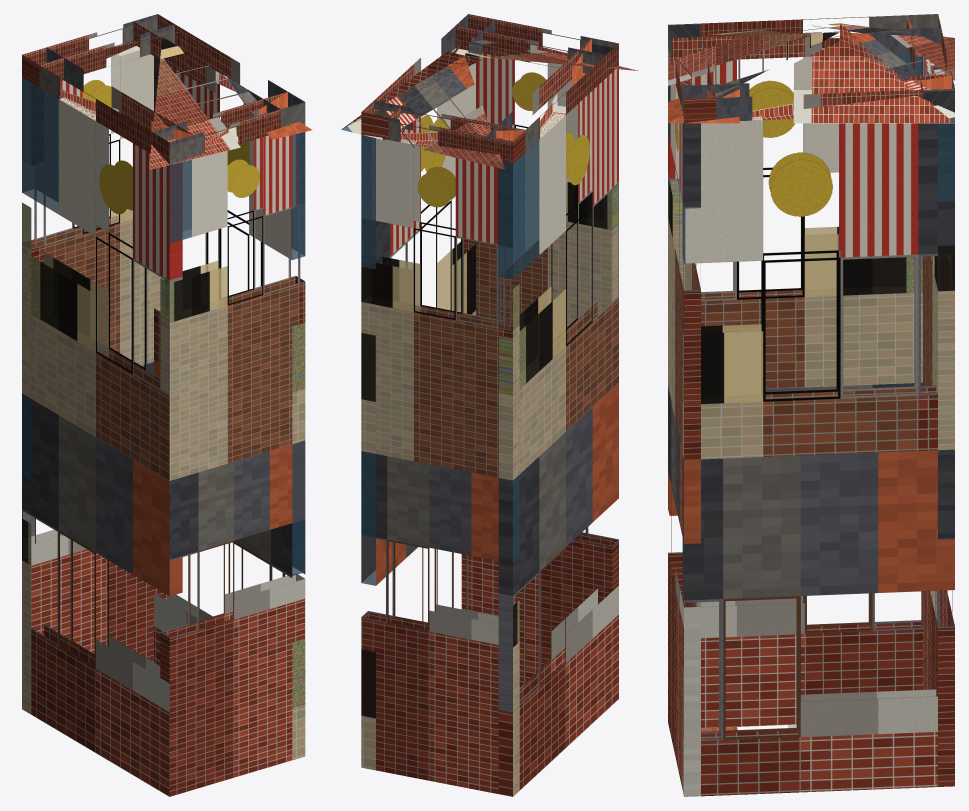
The picture shows the model from 3 angles, left to right: view 1: azimuth 30°, elevation 25°; view 2: azimuth 150°, elevation 25°; view 3: azimuth 270°, elevation 25°; orthographic projection. The views are drawn at different scales.
Visible parts, largest first — view 1: 238563114__wall_2_xb, 238563114__wall_1_xb, 238563114__wall_0_xb, 238563114__wall_3_xb, 238563114__wall_1_xf, 238563114__wall_3_xf, 238563114_roof_front_xb, 238563114__wall_2_xf, 238563114__cornice_1, 238563114__cornice_3, 238563114__cornice_0, 238563114__cornice_2 (+1 smaller); view 2: 238563114__wall_0_xb, 238563114__wall_1_xb, 238563114__wall_2_xb, 238563114__wall_3_xb, 238563114__wall_1_xf, 238563114__wall_3_xf, 238563114_roof_back_xb, 238563114__wall_0_xf, 238563114__cornice_1, 238563114__cornice_0, 238563114__cornice_2, 238563114__cornice_3 (+3 smaller); view 3: 238563114__wall_3_xb, 238563114__wall_1_xb, 238563114__wall_2_xb, 238563114__wall_0_xb, 238563114_roof_right_xb, 238563114__wall_3_xf, 238563114__cornice_1, 238563114__wall_1_xf, 238563114__cornice_3, 238563114_roof_front_xb, 238563114_roof_back_xb, 238563114__wall_0_xf (+4 smaller).
Part boxes in pixels (box(x1,y1,x2,y2)): 238563114__wall_2_xb: box(160, 132, 305, 796); 238563114__wall_1_xb: box(22, 83, 182, 796); 238563114__wall_0_xb: box(22, 46, 166, 714); 238563114__wall_3_xb: box(154, 56, 305, 760); 238563114__wall_1_xf: box(22, 83, 108, 351); 238563114__wall_3_xf: box(291, 132, 304, 707); 238563114_roof_front_xb: box(149, 36, 312, 169); 238563114__wall_2_xf: box(160, 160, 227, 322); 238563114__cornice_1: box(39, 47, 193, 164); 238563114__cornice_3: box(133, 14, 305, 127); 238563114__cornice_0: box(22, 14, 174, 86); 238563114__cornice_2: box(152, 92, 287, 164); 238563114__wall_0_xb: box(361, 137, 519, 796); 238563114__wall_1_xb: box(498, 69, 618, 796); 238563114__wall_2_xb: box(461, 53, 618, 686); 238563114__wall_3_xb: box(361, 48, 475, 770); 238563114__wall_1_xf: box(499, 141, 565, 394); 238563114__wall_3_xf: box(361, 119, 475, 717); 238563114_roof_back_xb: box(341, 56, 504, 169); 238563114__wall_0_xf: box(361, 159, 519, 646); 238563114__cornice_1: box(485, 38, 618, 152); 238563114__cornice_0: box(374, 100, 525, 163); 238563114__cornice_2: box(455, 14, 612, 73); 238563114__cornice_3: box(361, 14, 495, 139); 238563114__wall_3_xb: box(682, 116, 954, 796); 238563114__wall_1_xb: box(668, 48, 939, 728); 238563114__wall_2_xb: box(668, 80, 700, 796); 238563114__wall_0_xb: box(921, 56, 954, 786); 238563114_roof_right_xb: box(668, 23, 954, 123); 238563114__wall_3_xf: box(683, 123, 843, 737); 238563114__cornice_1: box(671, 14, 941, 60); 238563114__wall_1_xf: box(805, 53, 938, 296); 238563114__cornice_3: box(681, 75, 951, 120); 238563114_roof_front_xb: box(668, 32, 839, 122); 238563114_roof_back_xb: box(840, 32, 954, 122); 238563114__wall_0_xf: box(932, 123, 954, 290).
Size of the model in its own units: 0.19 by 0.757 by 0.2702.
1 material, 1 textured.
